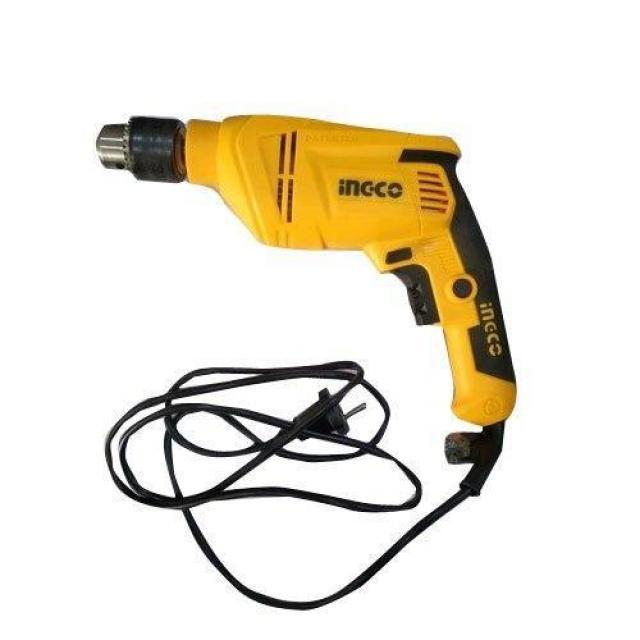drill: (94, 115, 518, 498)
